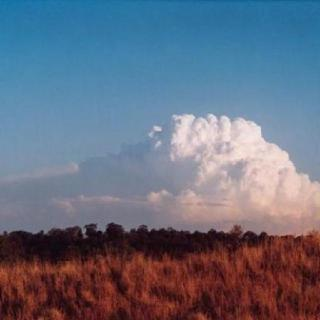Cumulonimbus: (0, 109, 320, 228)
